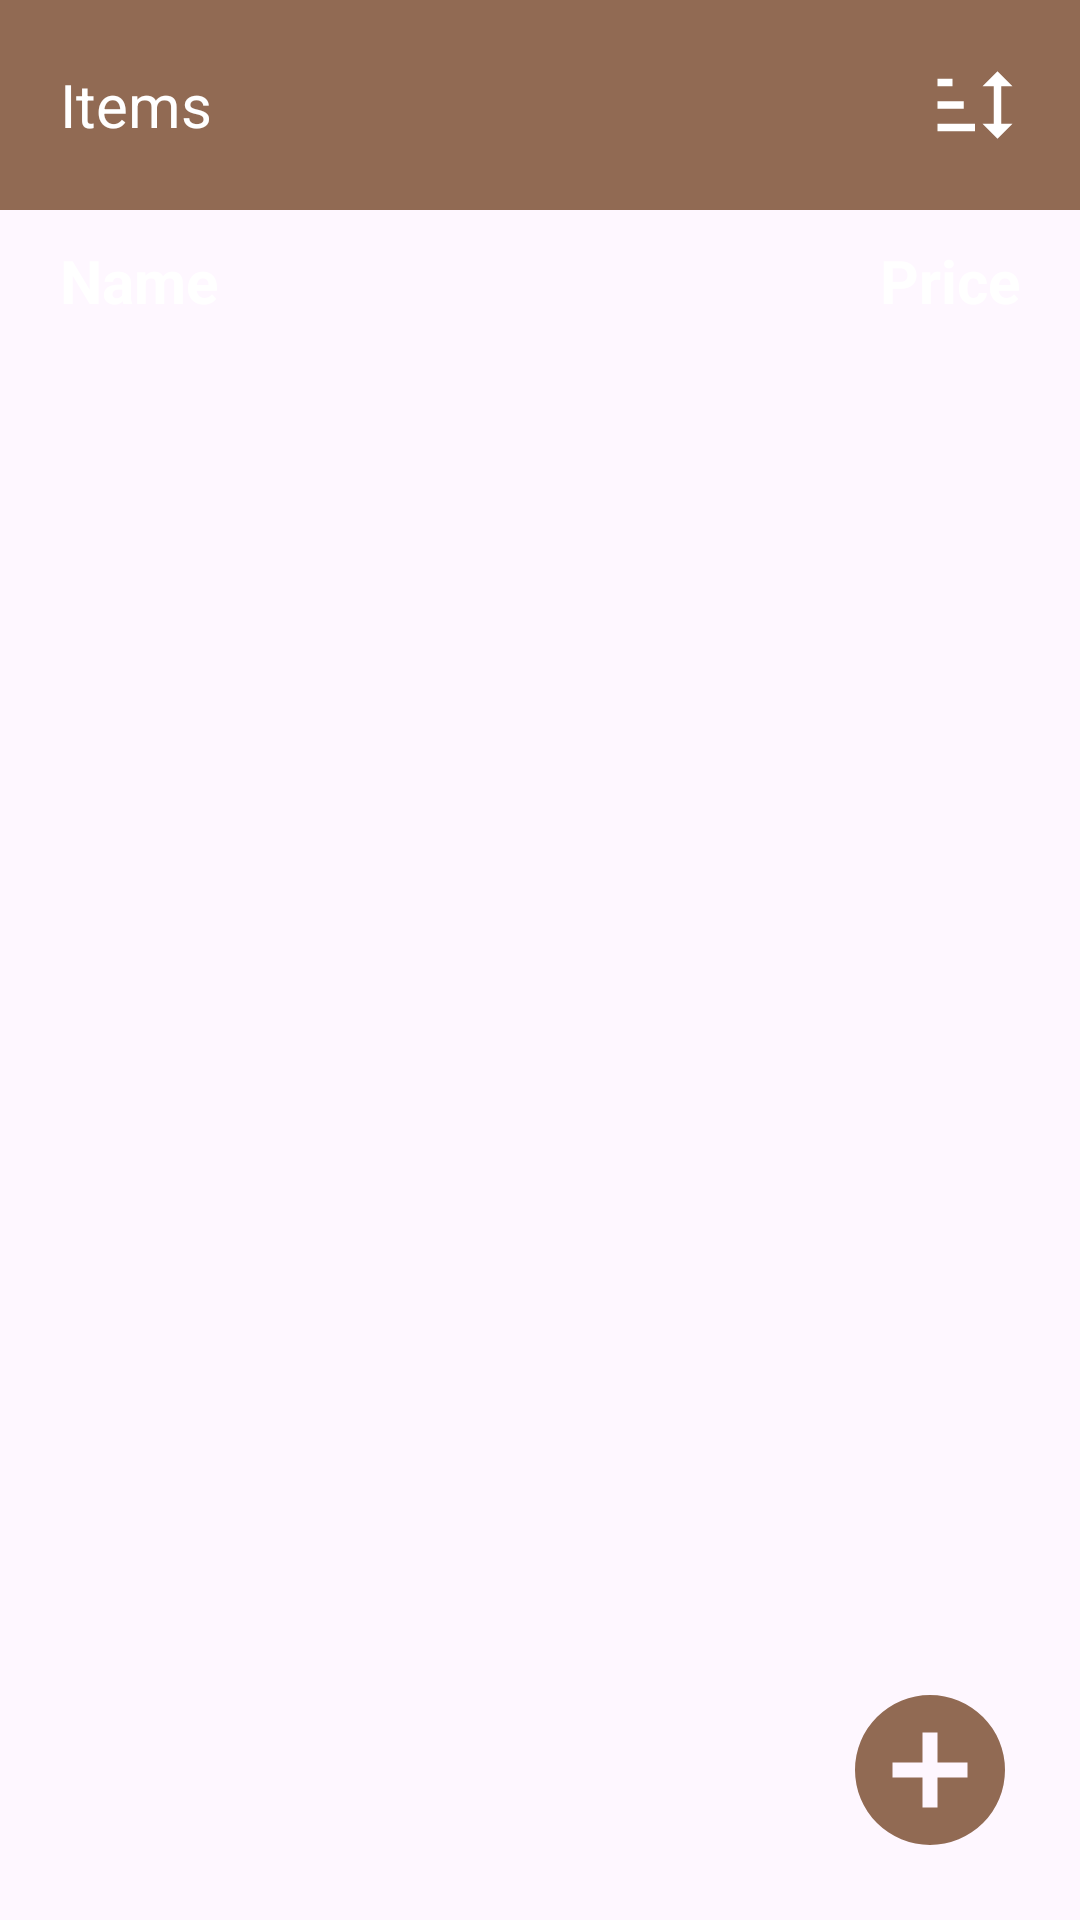

Where to tap for icons on this 1080px x 1920px app screen, as (x,y):
plus circle: (930,1770)
sort: (974,105)
